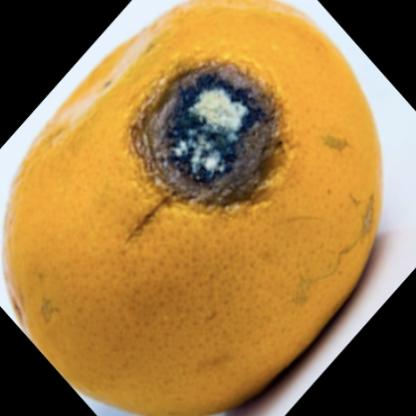rotten: (2, 1, 381, 416)
